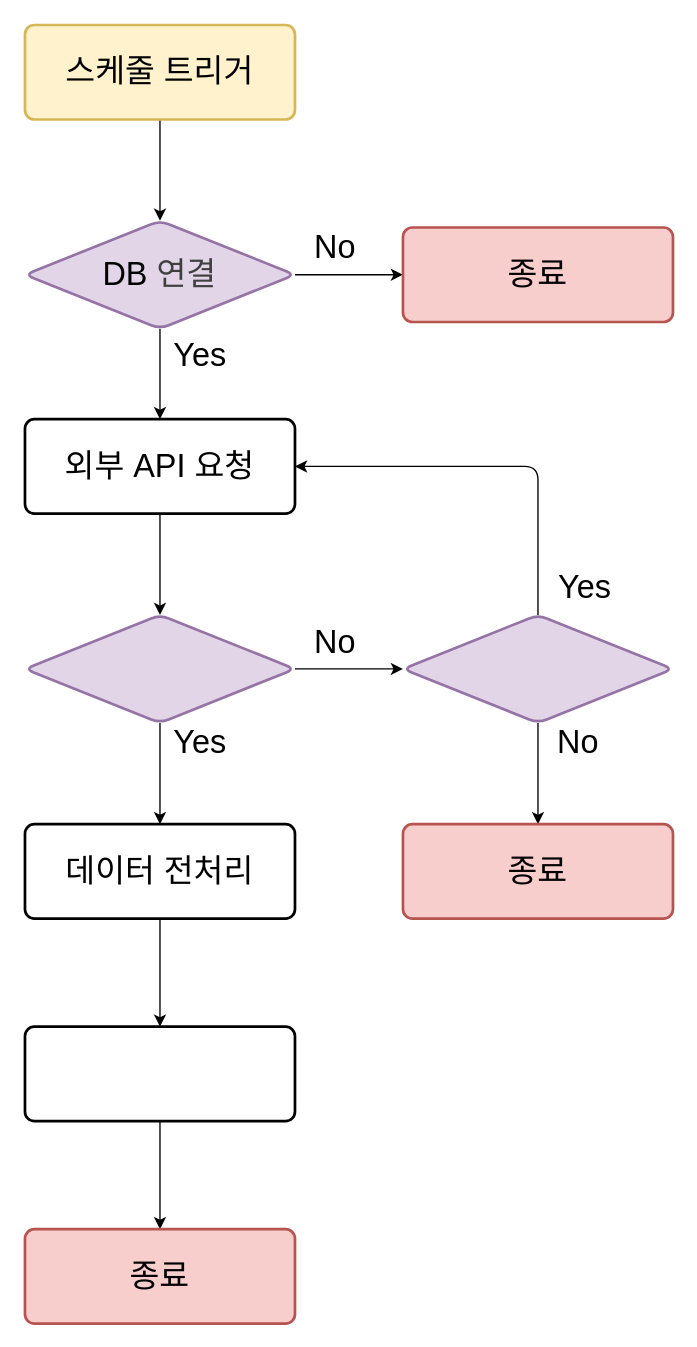
The diagram is 697 pixels wide and 1347 high, and some of its shapes have lost their labels. Here are the shapes that lost their labels. From the top down, the centre of each, then its label:
At [159,668]: "정상 응답".
At [537,668]: "재시도 < 제한".
At [159,1073]: "데이터 저장".
